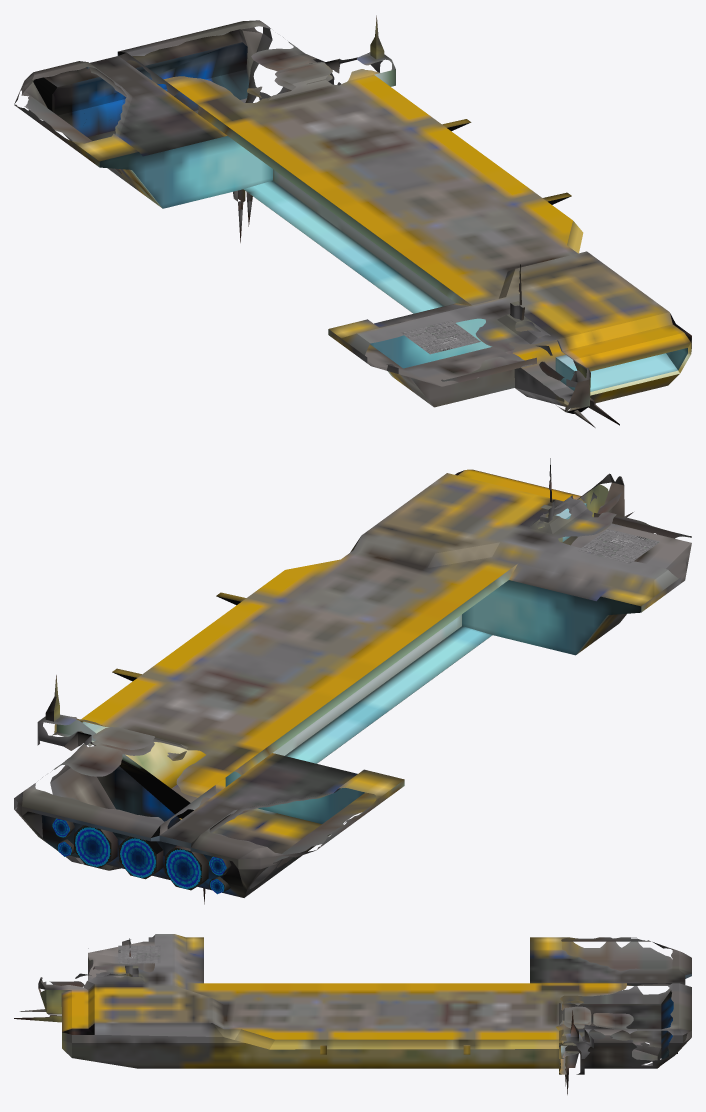
The picture shows the model from 3 angles, top to bottom: view 1: azimuth 30°, elevation 25°; view 2: azimuth 150°, elevation 25°; view 3: azimuth 270°, elevation 25°; orthographic projection. The views are drawn at different scales.
Parts seen in each view (by area): view 1: LOD2_TEX, Badge; view 2: LOD2_TEX, Hgn_Burner, Badge; view 3: LOD2_TEX, Badge.
Part boxes in pixels (x1,y1,x2,y2): LOD2_TEX: [14, 15, 691, 427]; Badge: [401, 320, 480, 354]; LOD2_TEX: [14, 458, 691, 904]; Hgn_Burner: [52, 818, 226, 894]; Badge: [578, 529, 659, 563]; LOD2_TEX: [14, 934, 691, 1094]; Badge: [118, 945, 160, 963].
Size of the model in its own units: 799 by 507 by 2024.
